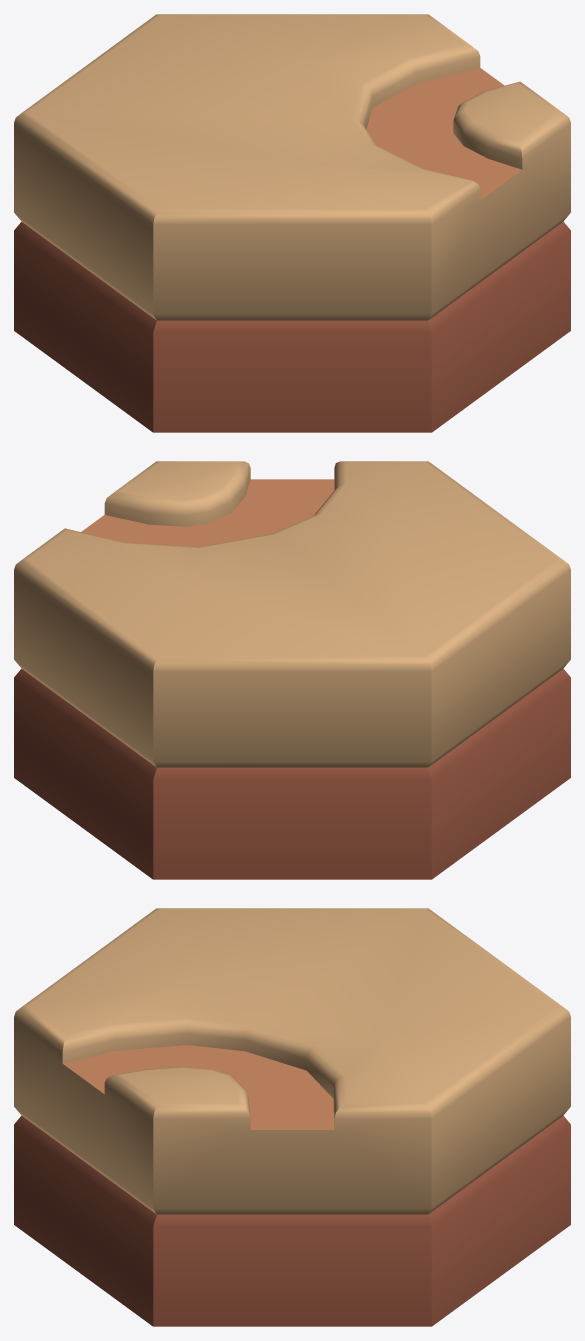
The model's file is hex_sand_roadC_detail.glb.
3 renders of one model, top to bottom at view 1: azimuth 30°, elevation 25°; view 2: azimuth 150°, elevation 25°; view 3: azimuth 270°, elevation 25°, orthographic.
Parts seen in each view (by area): view 1: hex_sand_roadC_detail; view 2: hex_sand_roadC_detail; view 3: hex_sand_roadC_detail.
Part boxes in pixels (x1=…): hex_sand_roadC_detail: x1=14, y1=14, x2=570, y2=432; hex_sand_roadC_detail: x1=14, y1=461, x2=570, y2=879; hex_sand_roadC_detail: x1=14, y1=908, x2=570, y2=1326.
Size of the model in its own units: 2.4 by 1.2 by 2.77.
